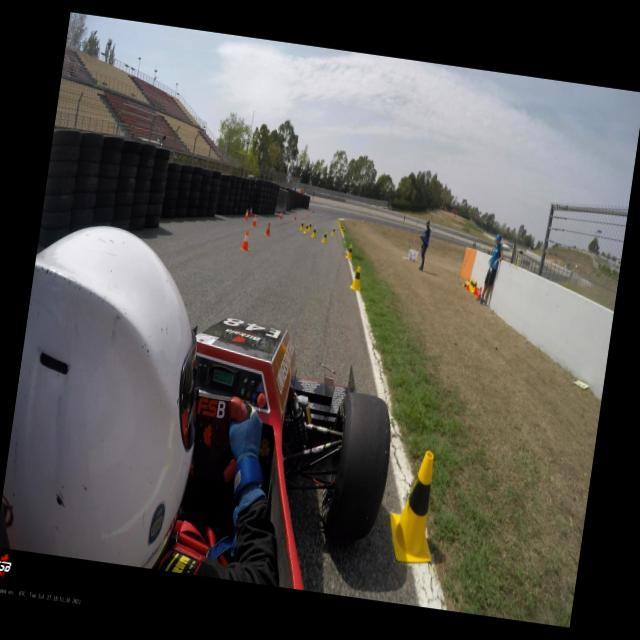orange_cone: (240, 230, 251, 252), (264, 222, 272, 236), (251, 214, 258, 228), (243, 208, 250, 220), (476, 288, 482, 302), (466, 278, 471, 290), (248, 208, 254, 217), (474, 286, 479, 296), (278, 210, 282, 220), (294, 212, 298, 220), (307, 212, 309, 217)
yellow_cone: (384, 446, 446, 564), (350, 264, 362, 292), (346, 244, 354, 260), (321, 230, 328, 244), (311, 227, 317, 238), (462, 280, 468, 288), (473, 282, 477, 294), (304, 223, 308, 234), (300, 220, 304, 230), (308, 222, 312, 231), (470, 279, 473, 291), (471, 280, 474, 292), (472, 282, 475, 294), (332, 228, 336, 236), (342, 228, 346, 235), (469, 279, 472, 288), (341, 225, 344, 232), (340, 222, 342, 228)
